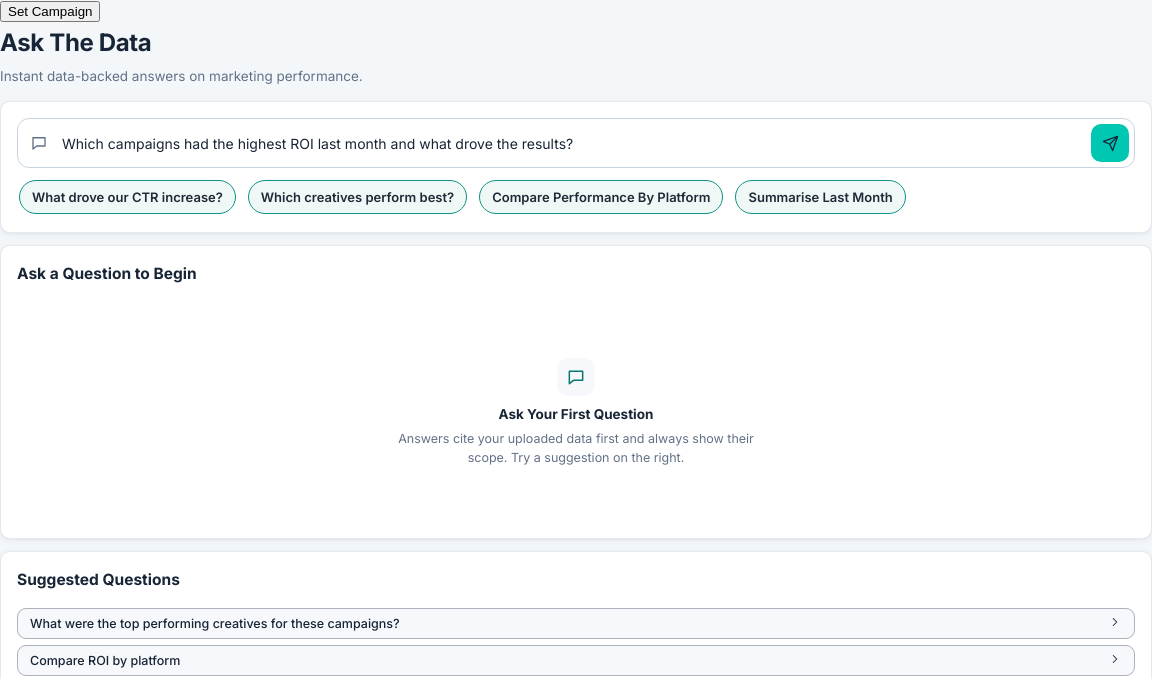
Test: AskPage answer scope › shows a same-scope answer and clears the busy state
This screenshot has width=1152, height=679.
Click the button named "Ask" at {"x": 1110, "y": 143}, box [1091, 124, 1129, 162]
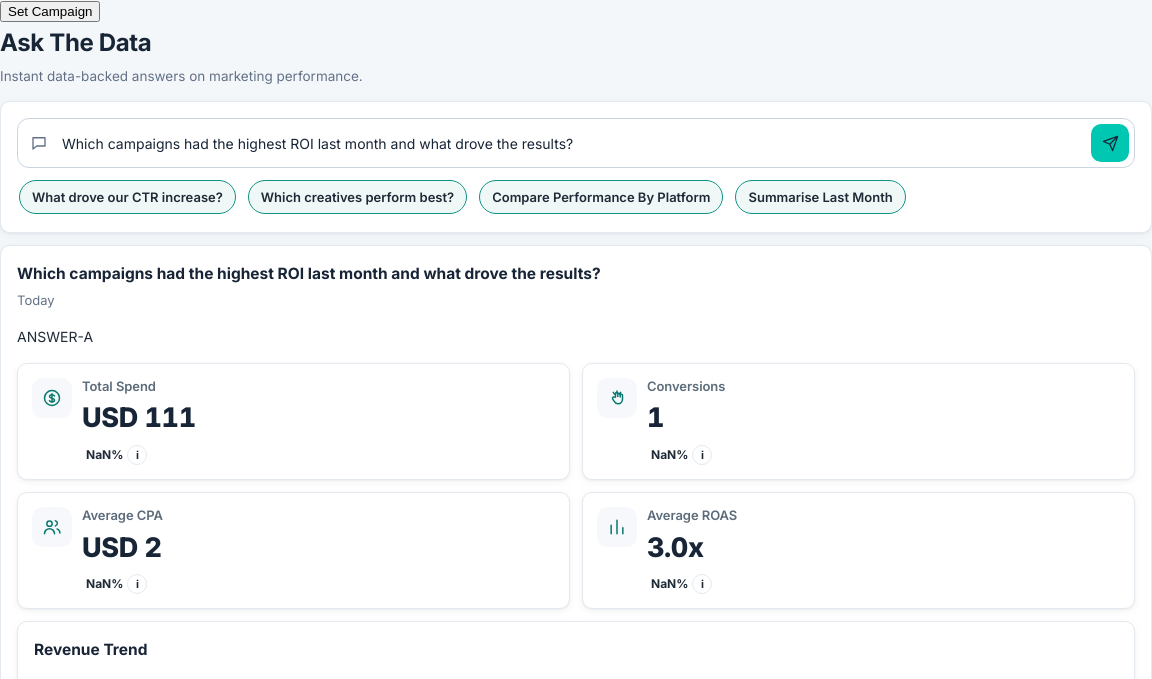
Check: the text "ANSWER-A" is shown, box [17, 328, 93, 345]
